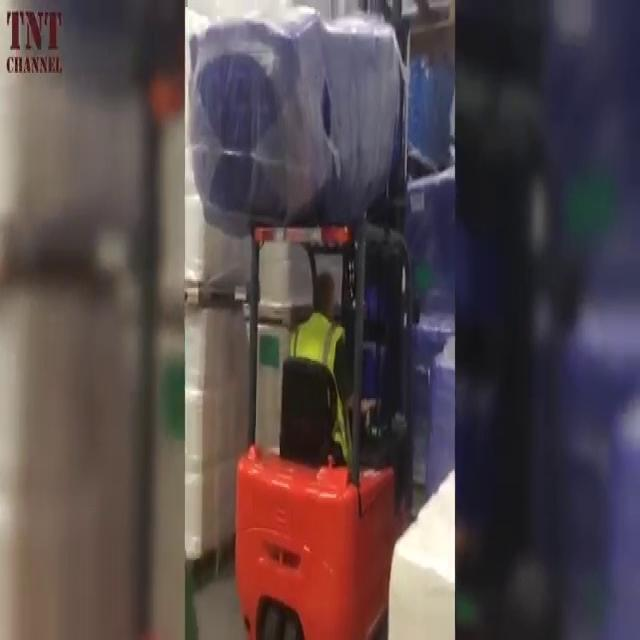Chariot elevateur: (229, 194, 418, 640)
